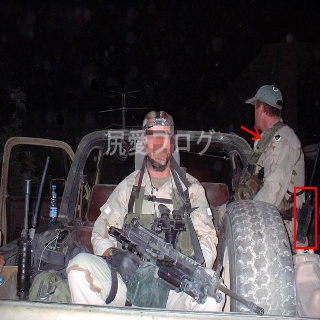rifle: (108, 217, 267, 319)
